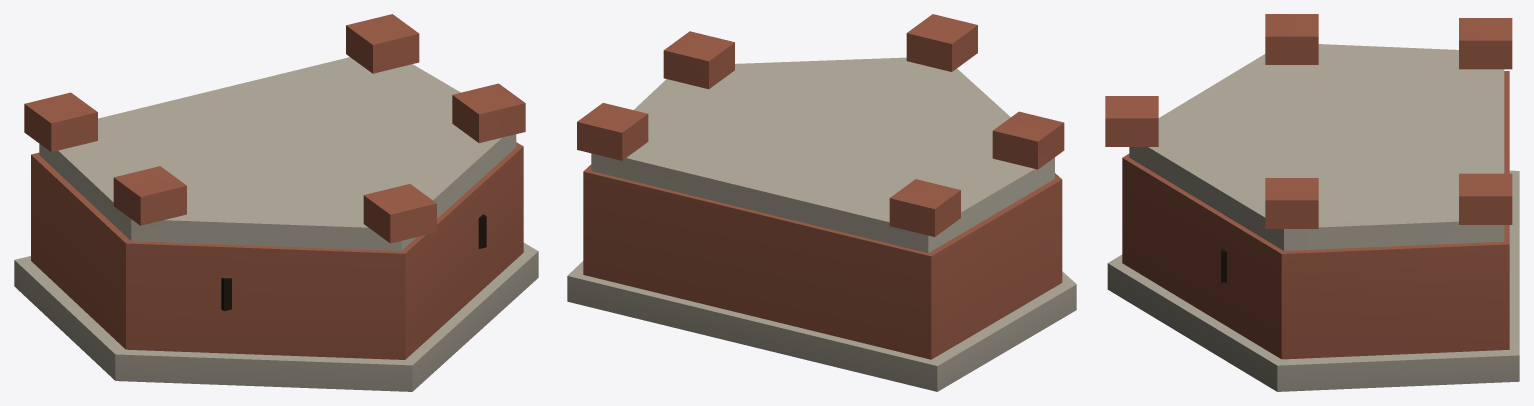
Rendered from republic_bastion_lod1.glb.
The picture shows the model from 3 angles, left to right: view 1: azimuth 30°, elevation 25°; view 2: azimuth 150°, elevation 25°; view 3: azimuth 270°, elevation 25°; orthographic projection. The views are drawn at different scales.
Visible parts, largest first — view 1: GEO-Arch_republic_bastion_LOD1; view 2: GEO-Arch_republic_bastion_LOD1; view 3: GEO-Arch_republic_bastion_LOD1.
Boxes of the visible parts, x1,y1,x2,y2 form: GEO-Arch_republic_bastion_LOD1: [14, 14, 538, 391]; GEO-Arch_republic_bastion_LOD1: [567, 14, 1076, 391]; GEO-Arch_republic_bastion_LOD1: [1105, 14, 1519, 391].
Size of the model in its own units: 10 by 4.15 by 8.55.
